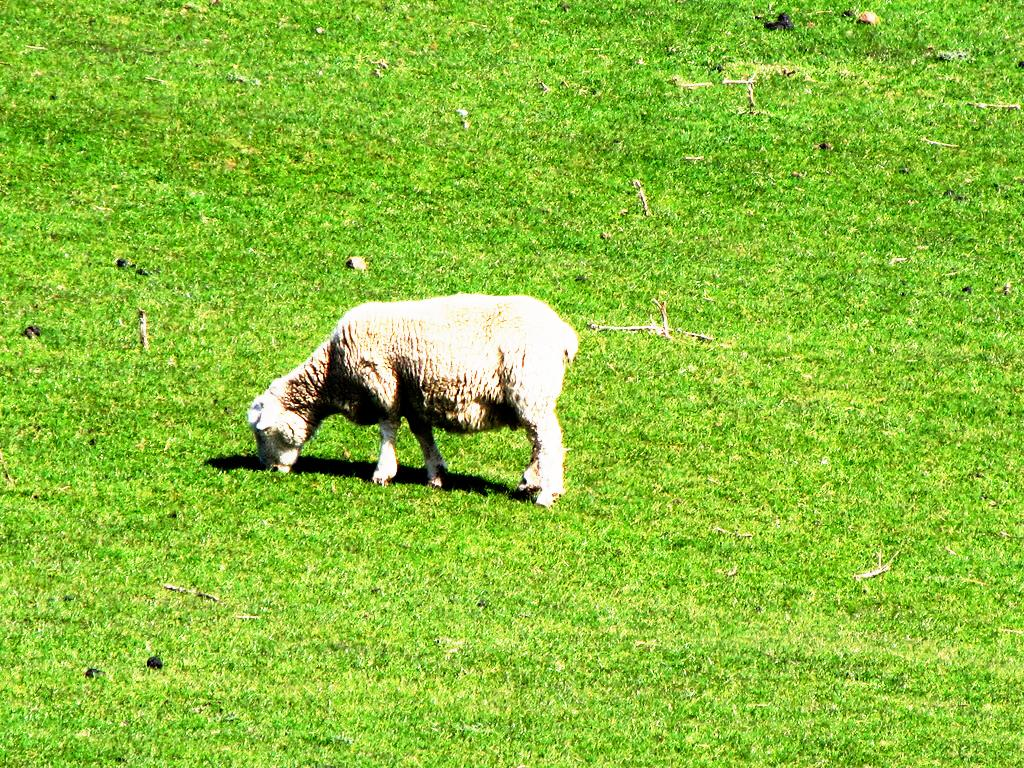Sheep: (248, 291, 582, 505)
